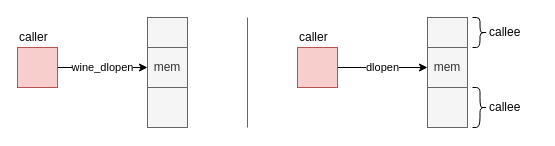
This 555x146 diagram has some shape labels left out. The shapes that lost their labels are listed below. From the top down, each one's centre as x and y in pixels, then its label:
the point at 37,67: .so winelib
the point at 317,67: .so
